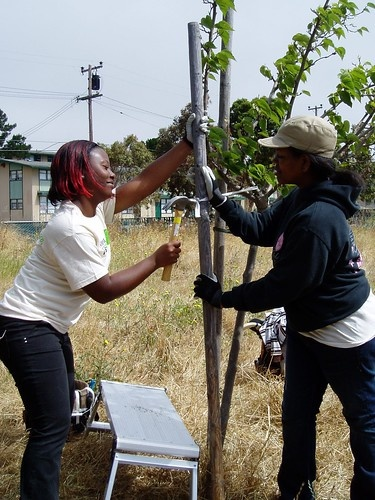hammer: (161, 188, 191, 286)
